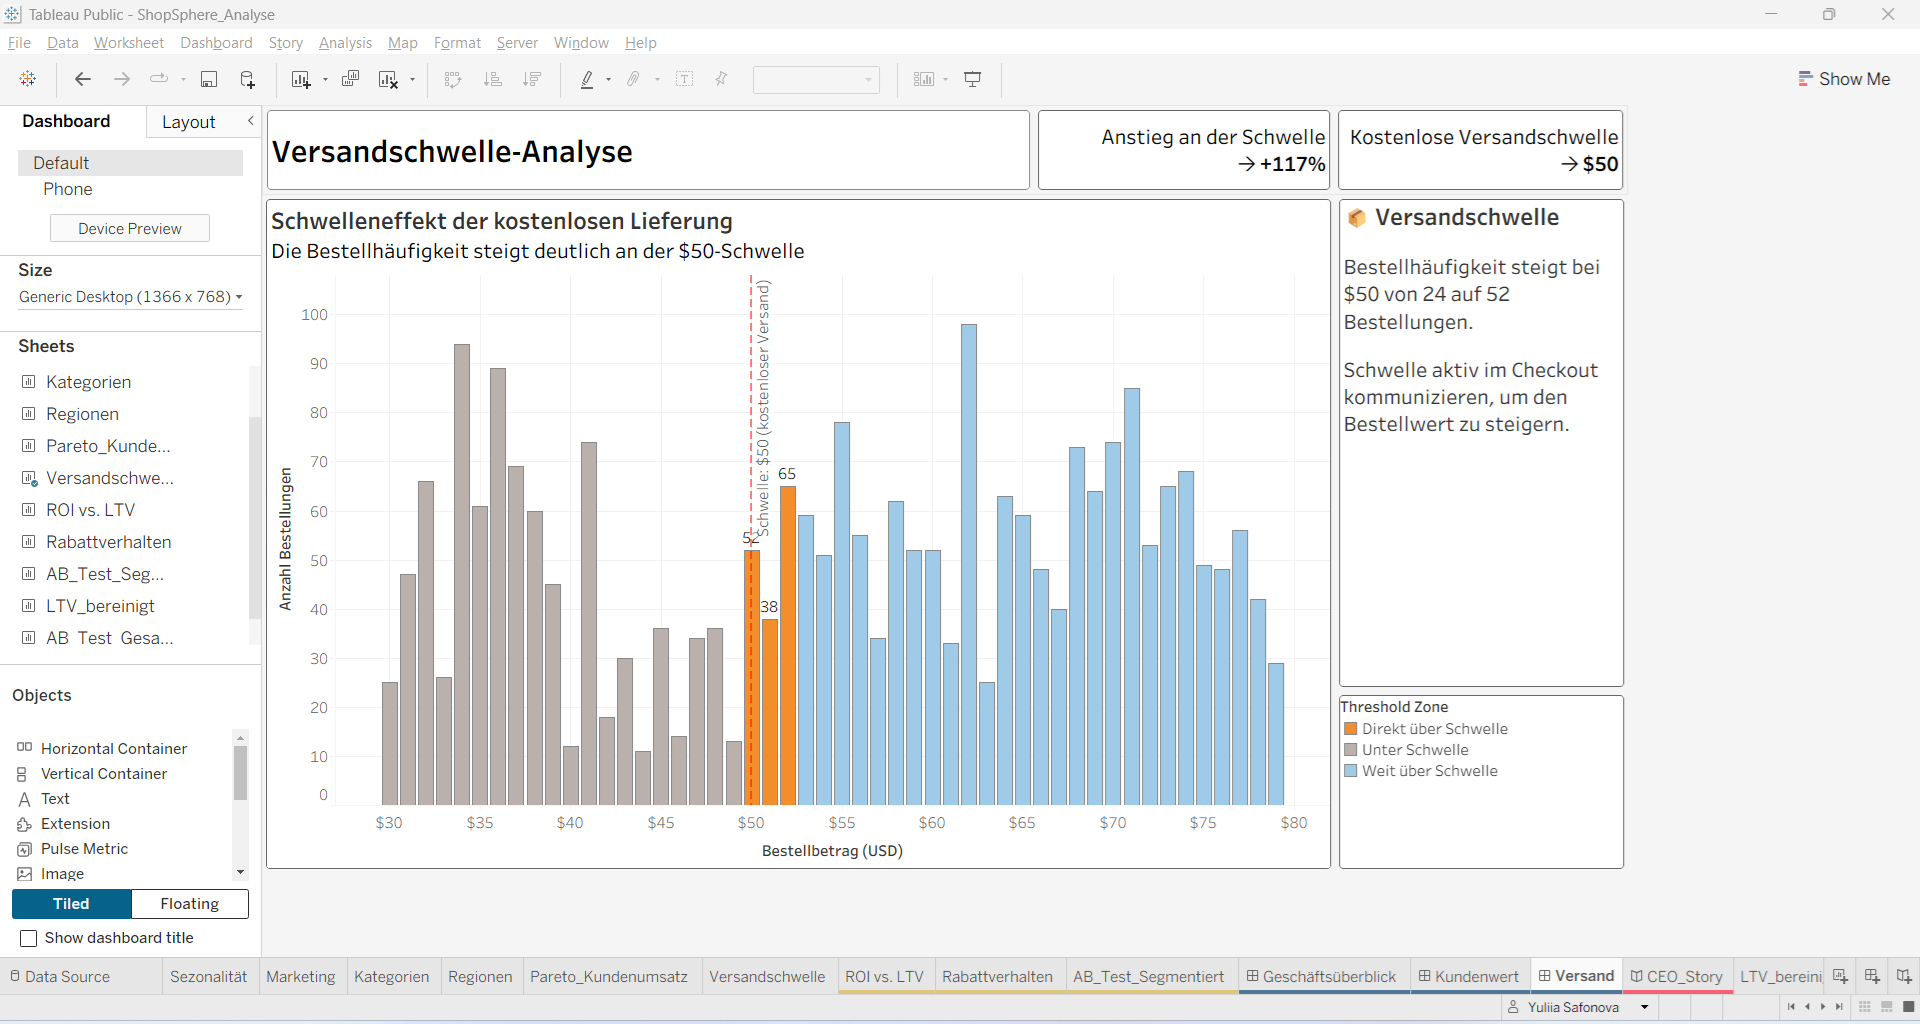

The dashboard page shown, as its layout file describes it:
{"tool":"tableau","page":{"name":"Versand","canvas":[1366,768],"ordinal":3},"visuals":[{"type":"text","box":[1,1,771,88]},{"type":"text","box":[772,1,300,88]},{"type":"text","box":[1072,1,293,88]},{"type":"worksheet","title":"Versandschwelle","mark":"Bar","rows":["order_count"],"cols":["order_amount"],"box":[0,90,1073,678]},{"type":"text","box":[1073,90,293,496]},{"type":"legend","title":"Versandschwelle","param":"[federated.0ewsjo50np6qpo14ej78j15zprhh].[none:Calculation_0828505806807063:nk]","box":[1073,586,293,182]}]}

Visuals, with their boxes on the page's 1366x768 design canvas (x1, y1, x2, y2). These are canvas units, not pixel positions in the 1920x1024 screenshot, which may show the page scaled, cropped or inside an application window:
text: 1,1,772,89
text: 772,1,1072,89
text: 1072,1,1365,89
"Versandschwelle" worksheet (Bar marks): 0,90,1073,768
text: 1073,90,1366,586
"Versandschwelle" legend: 1073,586,1366,768
